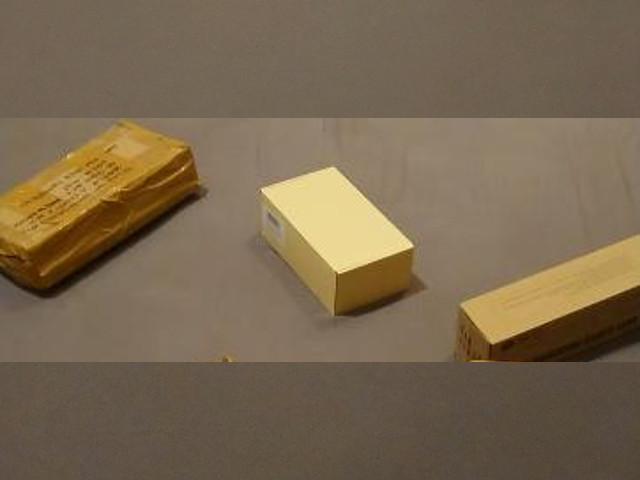cardboard: (0, 121, 199, 286), (460, 235, 640, 358), (261, 165, 411, 312)
